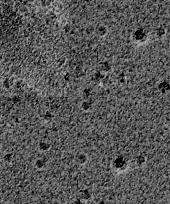rosette_object: (156, 80, 170, 94), (153, 27, 165, 37), (133, 155, 145, 165)
